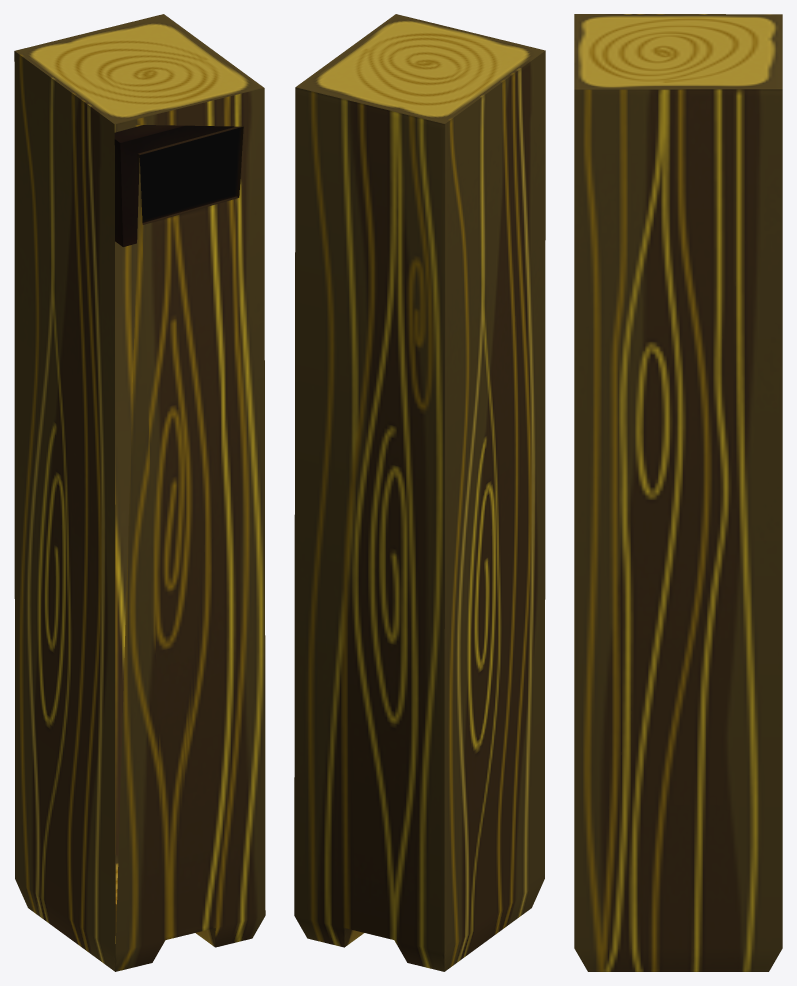
The model's file is falltree_fbx.fbx.
3 views of the same model, side by side, from view 1: azimuth 30°, elevation 25°; view 2: azimuth 150°, elevation 25°; view 3: azimuth 270°, elevation 25° (orthographic). The views are drawn at different scales.
Visible parts, largest first — view 1: falltree; view 2: falltree; view 3: falltree.
Boxes of the visible parts, x1,y1,x2,y2 form: falltree: [14, 14, 265, 971]; falltree: [294, 14, 545, 971]; falltree: [574, 14, 782, 971].
Bounding box in the file's own units: 15.61 × 84.6 × 18.05.
